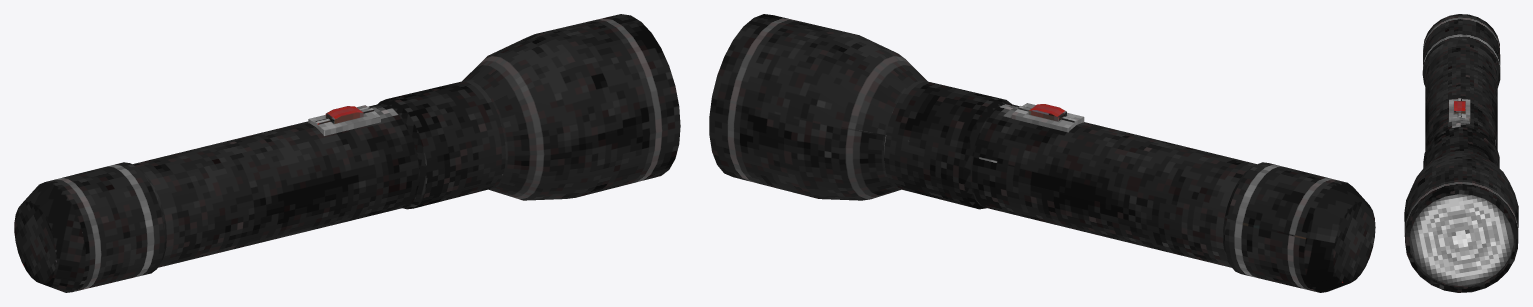
Rendered from FlashLight_001.glb.
The picture shows the model from 3 angles, left to right: view 1: azimuth 30°, elevation 25°; view 2: azimuth 150°, elevation 25°; view 3: azimuth 270°, elevation 25°; orthographic projection. The views are drawn at different scales.
Visible parts, largest first — view 1: Flashlight001.002; view 2: Flashlight001.002; view 3: Flashlight001.002.
Part boxes in pixels (x1,y1,x2,y2): Flashlight001.002: (14, 14, 680, 292); Flashlight001.002: (709, 14, 1375, 292); Flashlight001.002: (1404, 14, 1518, 292).
Bounding box in the file's own units: 0.3176 × 0.0769 × 0.0768.
Materials: 1 (1 with a texture image).
